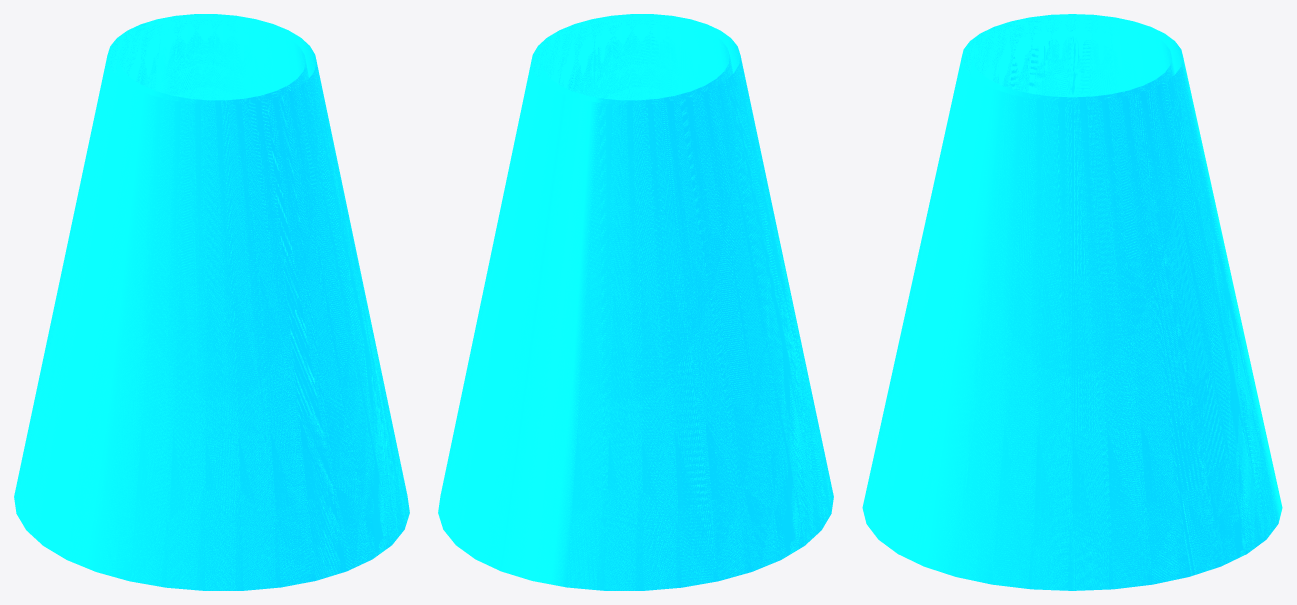
The model's file is light.gltf.
The picture shows the model from 3 angles, left to right: view 1: azimuth 30°, elevation 25°; view 2: azimuth 150°, elevation 25°; view 3: azimuth 270°, elevation 25°; orthographic projection.
Parts seen in each view (by area): view 1: Object_18; view 2: Object_18; view 3: Object_18.
Part boxes in pixels (box(x1,y1,x2,y2)): Object_18: box(14, 14, 409, 590); Object_18: box(438, 14, 833, 590); Object_18: box(862, 14, 1282, 590).
Size of the model in its own units: 3.23 by 4.08 by 3.45.
Materials: 1 (1 with a texture image).
